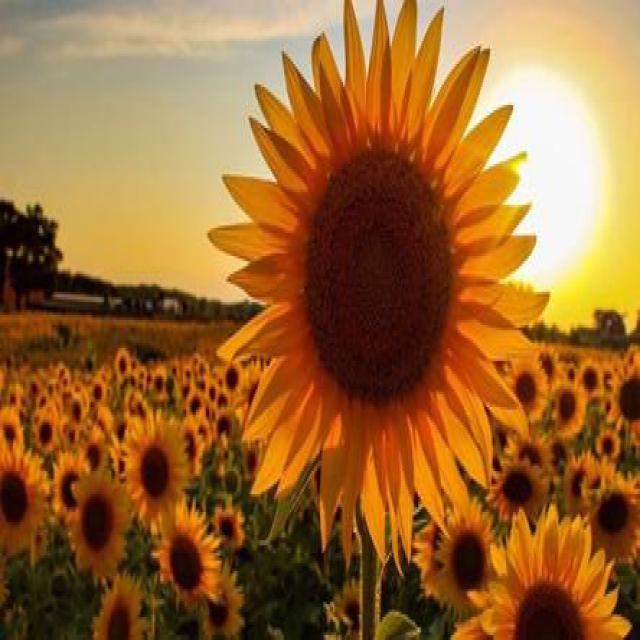sunflower: (203, 0, 549, 584), (460, 486, 628, 640), (120, 408, 193, 536), (429, 496, 505, 618), (152, 504, 230, 622), (63, 464, 129, 580), (586, 466, 640, 581), (0, 435, 46, 561), (502, 334, 552, 439), (91, 574, 151, 640), (543, 366, 591, 440), (607, 349, 640, 442), (212, 495, 248, 549), (0, 401, 26, 452), (224, 353, 246, 410), (64, 389, 92, 430), (37, 410, 60, 453), (112, 346, 138, 382)
